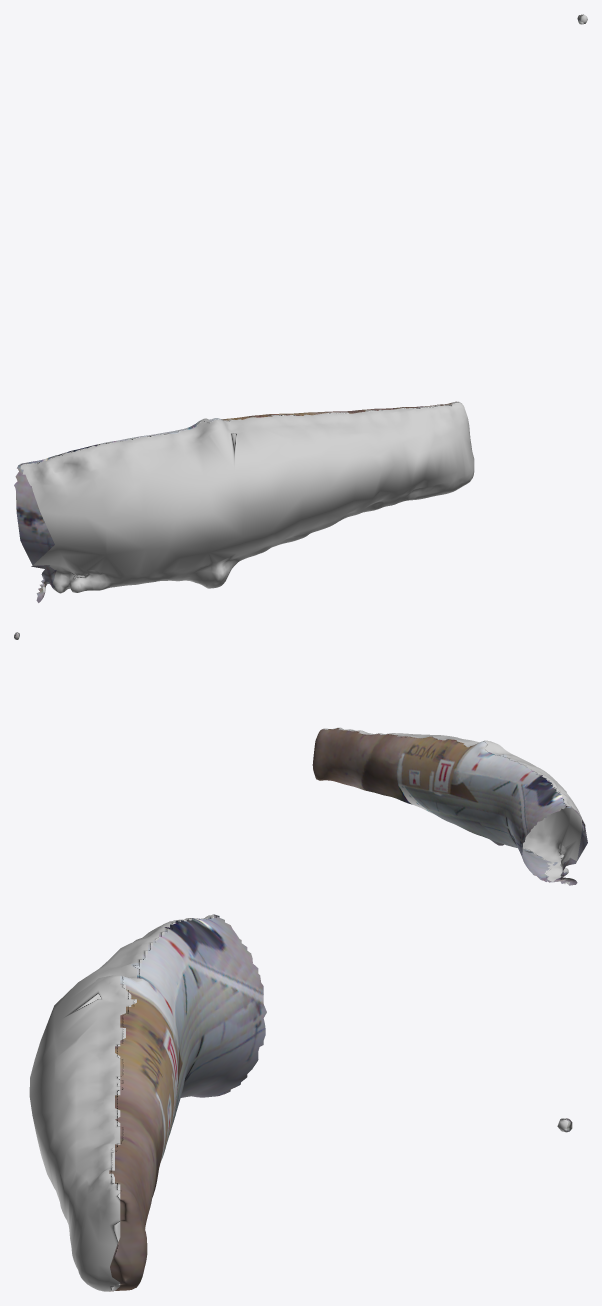
The model's file is meshDefinitino_ForearmGrid1.obj.
3 views of the same model, one above another, from view 1: azimuth 30°, elevation 25°; view 2: azimuth 150°, elevation 25°; view 3: azimuth 270°, elevation 25° (orthographic). The views are drawn at different scales.
Size of the model in its own units: 0.5667 by 0.2395 by 0.2795.
